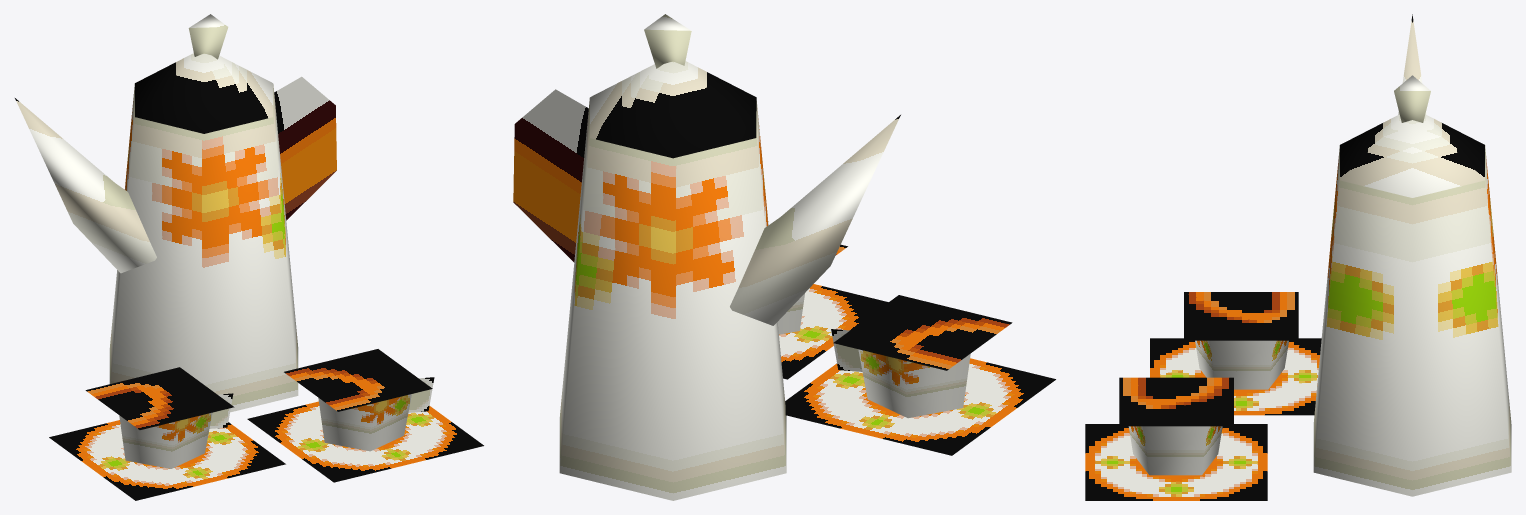
3 views of the same model, side by side, from view 1: azimuth 30°, elevation 25°; view 2: azimuth 150°, elevation 25°; view 3: azimuth 270°, elevation 25° (orthographic). The views are drawn at different scales.
Visible parts, largest first — view 1: 3907kg3_gs09; view 2: 3907kg3_gs09; view 3: 3907kg3_gs09.
Boxes of the visible parts, <box> form: 3907kg3_gs09: <box>15,14,483,500</box>; 3907kg3_gs09: <box>513,14,1055,500</box>; 3907kg3_gs09: <box>1085,14,1511,500</box>.
Size of the model in its own units: 0.7505 by 0.7654 by 0.8088.
Materials: 3 (3 with a texture image).
